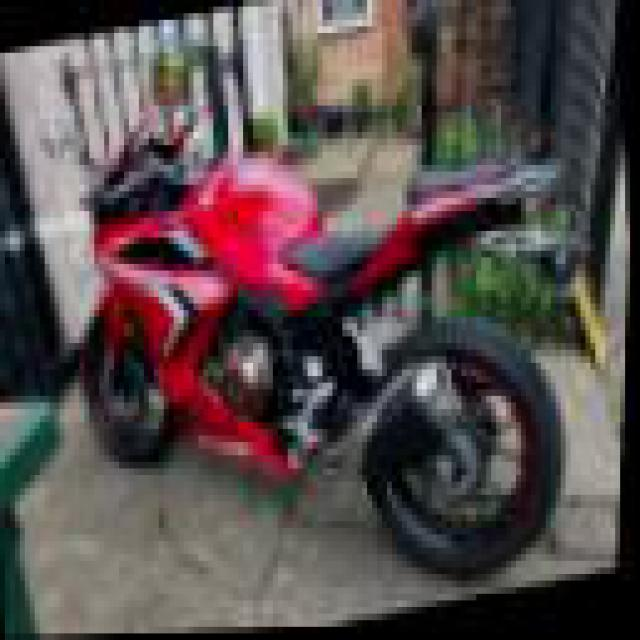CBR500R: (45, 33, 610, 633)
